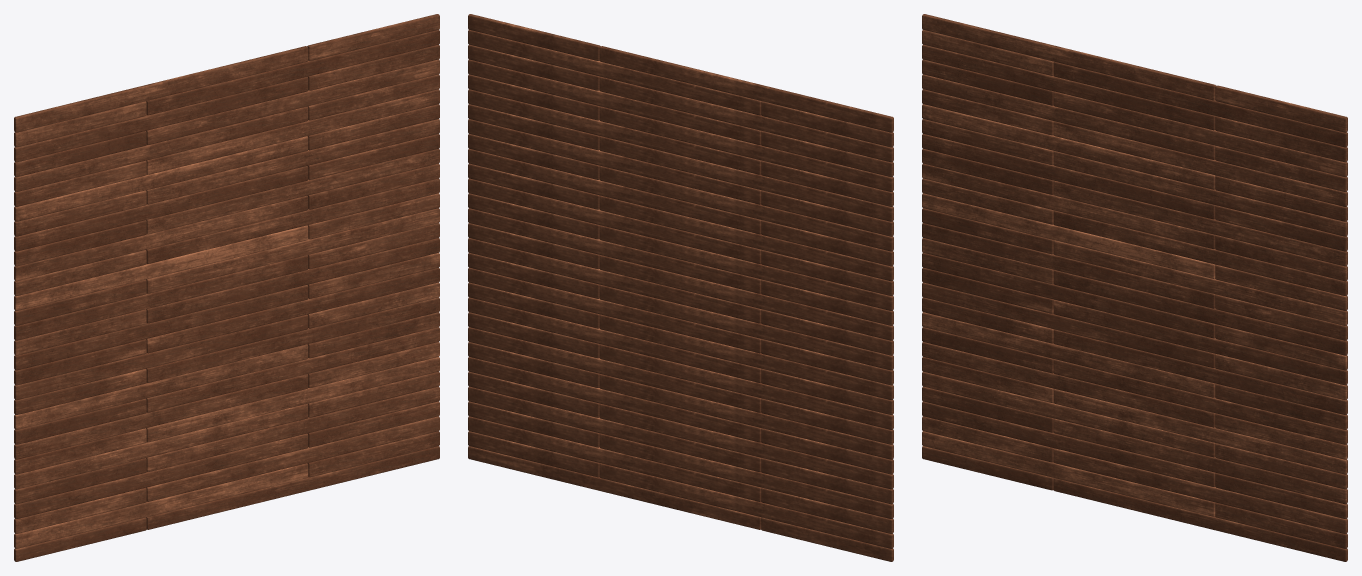
File: SM_Floor.fbx
3 renders of one model, left to right at view 1: azimuth 30°, elevation 25°; view 2: azimuth 150°, elevation 25°; view 3: azimuth 330°, elevation 25°, orthographic.
Parts seen in each view (by area): view 1: SM_Floor_01; view 2: SM_Floor_01; view 3: SM_Floor_01.
Boxes of the visible parts, box(x1,y1,x2,y2) form: SM_Floor_01: box(14, 14, 439, 561); SM_Floor_01: box(468, 14, 893, 561); SM_Floor_01: box(922, 14, 1347, 561).
Bounding box in the file's own units: 601 × 601 × 6.08.
Materials: 1 (1 with a texture image).
